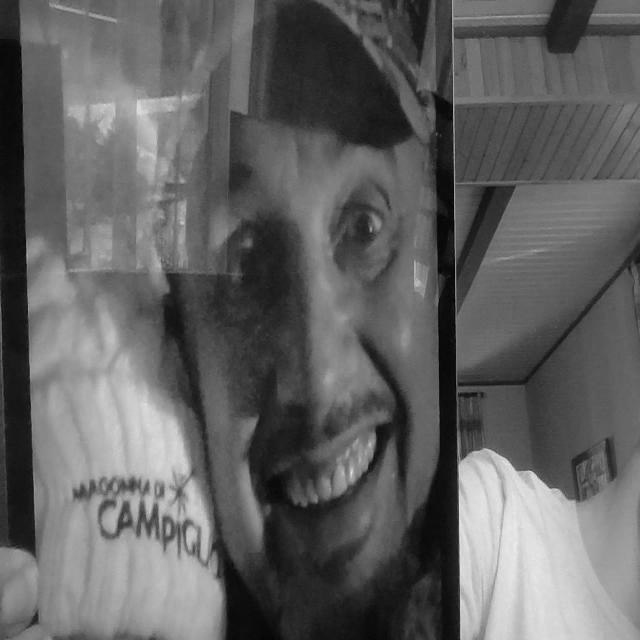fake: (2, 0, 463, 640)
